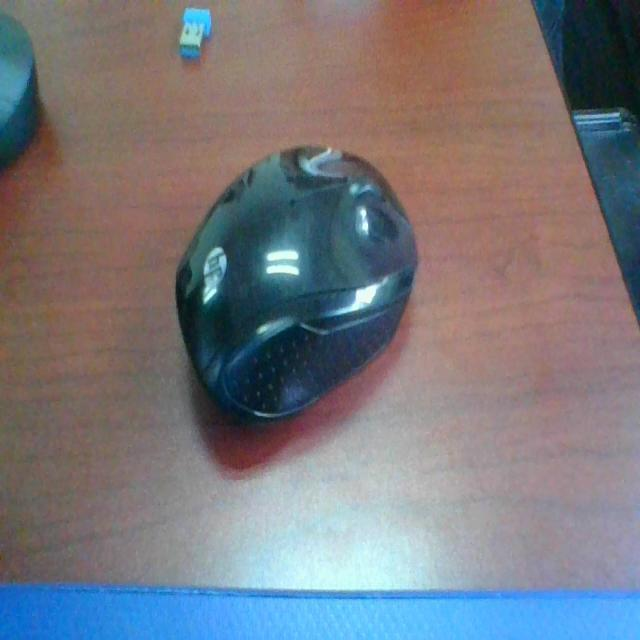Mouse: (176, 133, 422, 428)
